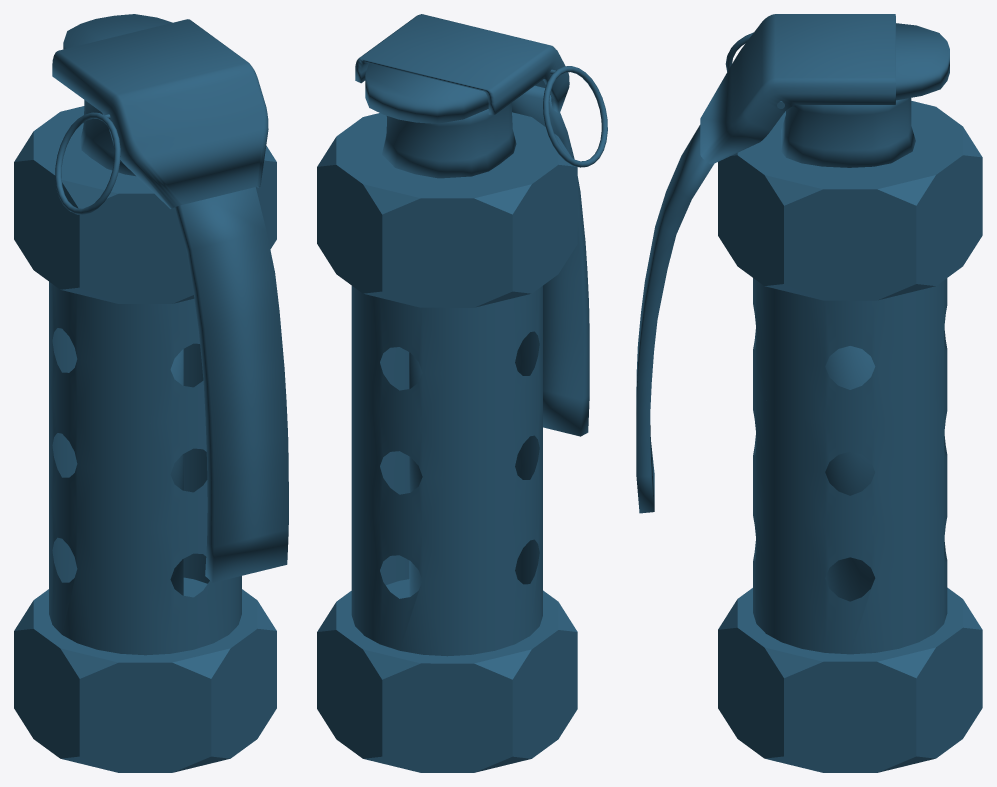
File: Low_Poly_Simple_Flashbang_Grenade.glb
The picture shows the model from 3 angles, left to right: view 1: azimuth 30°, elevation 25°; view 2: azimuth 150°, elevation 25°; view 3: azimuth 270°, elevation 25°; orthographic projection.
Visible parts, largest first — view 1: unnamed (×9); view 2: unnamed (×9); view 3: unnamed (×8).
Boxes of the visible parts, x1,y1,x2,y2 form: unnamed (×9): [14, 14, 288, 772]; unnamed (×9): [317, 14, 607, 772]; unnamed (×8): [636, 14, 982, 772].
Bounding box in the file's own units: 3.08 × 9.38 × 4.34.
